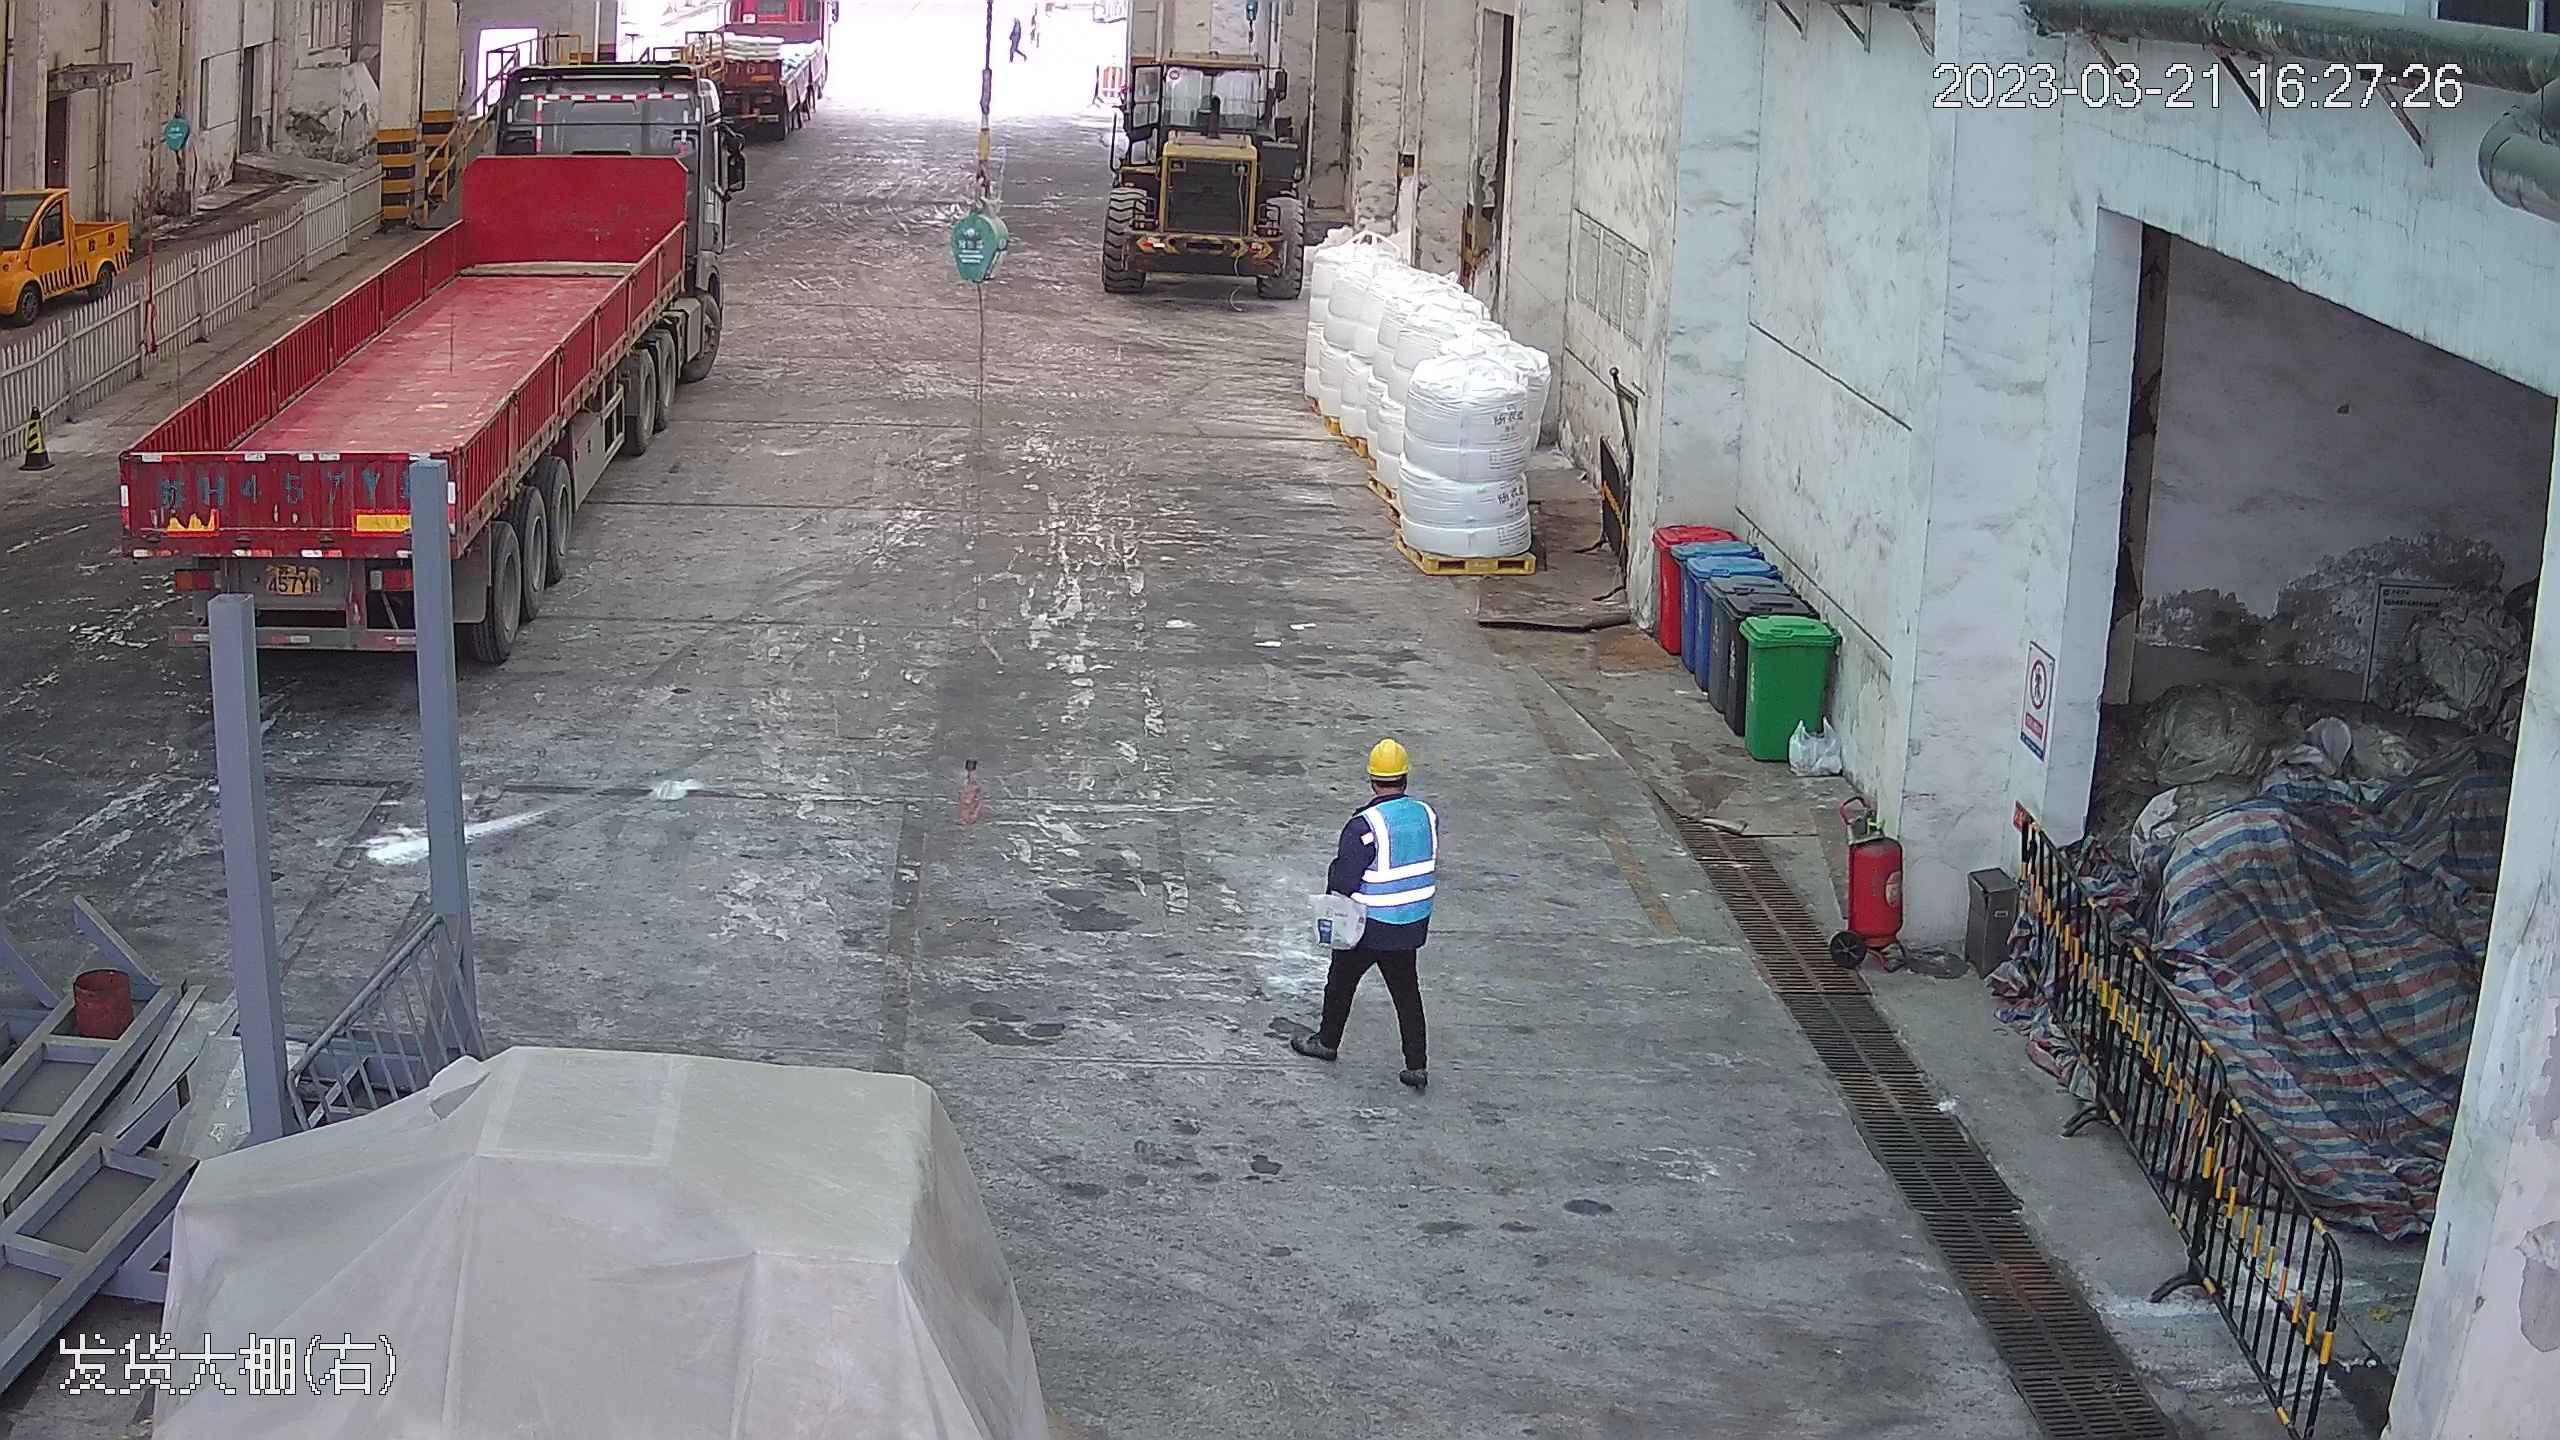head: (1338, 736, 1440, 852)
helmet: (1363, 736, 1413, 777)
people: (1300, 734, 1445, 1086)
truck: (109, 20, 733, 667)
